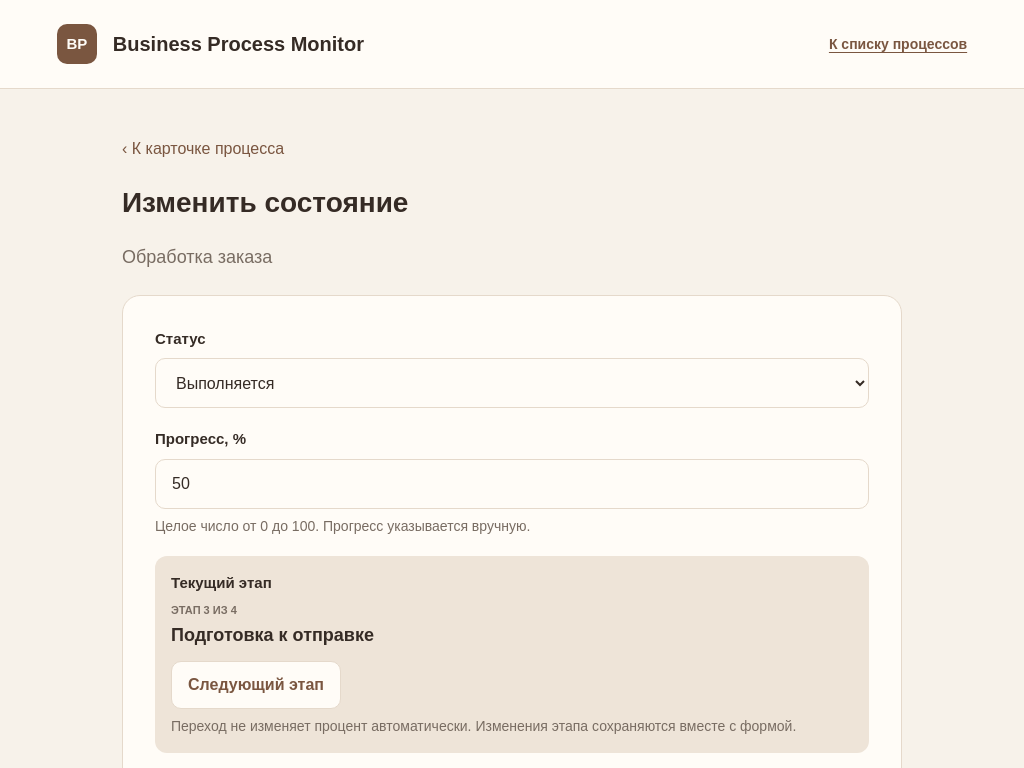
Scenario: R1 / FE-016: валидация перед сохранением › V10: допустимая граница order / in_progress / 1 сохраняется
Select "Выполняется" in the dropdown labelled "Статус" at (512, 383), box [155,358,869,408]
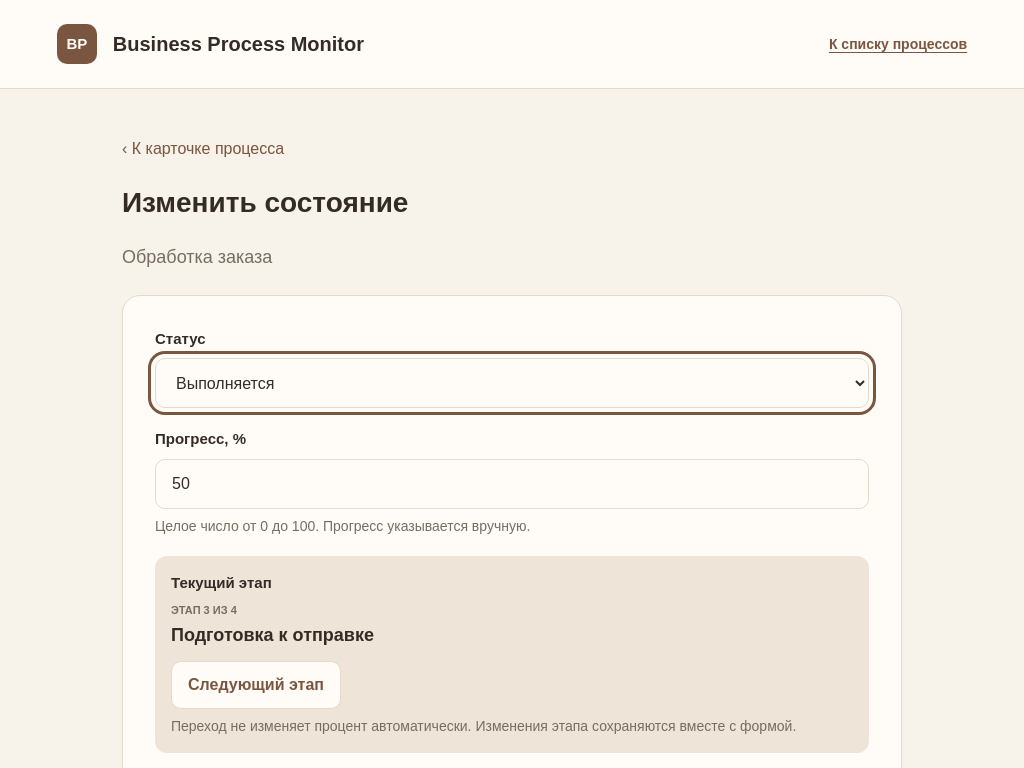
Replace the text in the field labelled "Прогресс, %" with "1" at (512, 484), box [155,459,869,509]
(page scrolled)
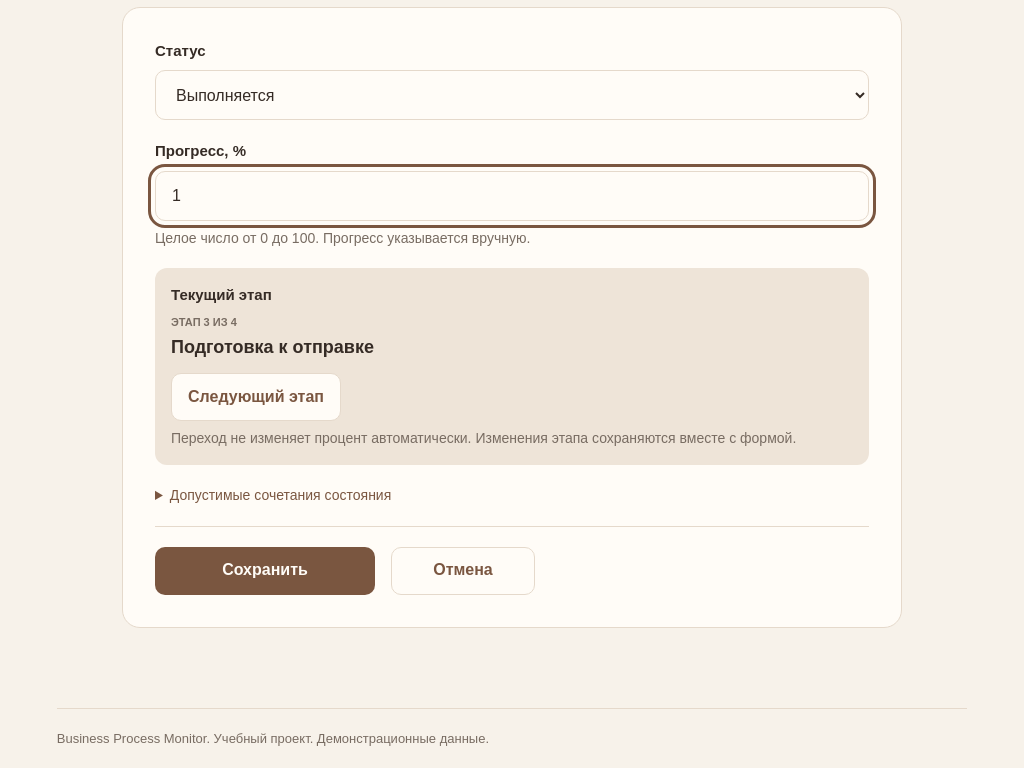
Click the button "Сохранить".
click(265, 571)  # box [155,547,375,595]
(page scrolled)
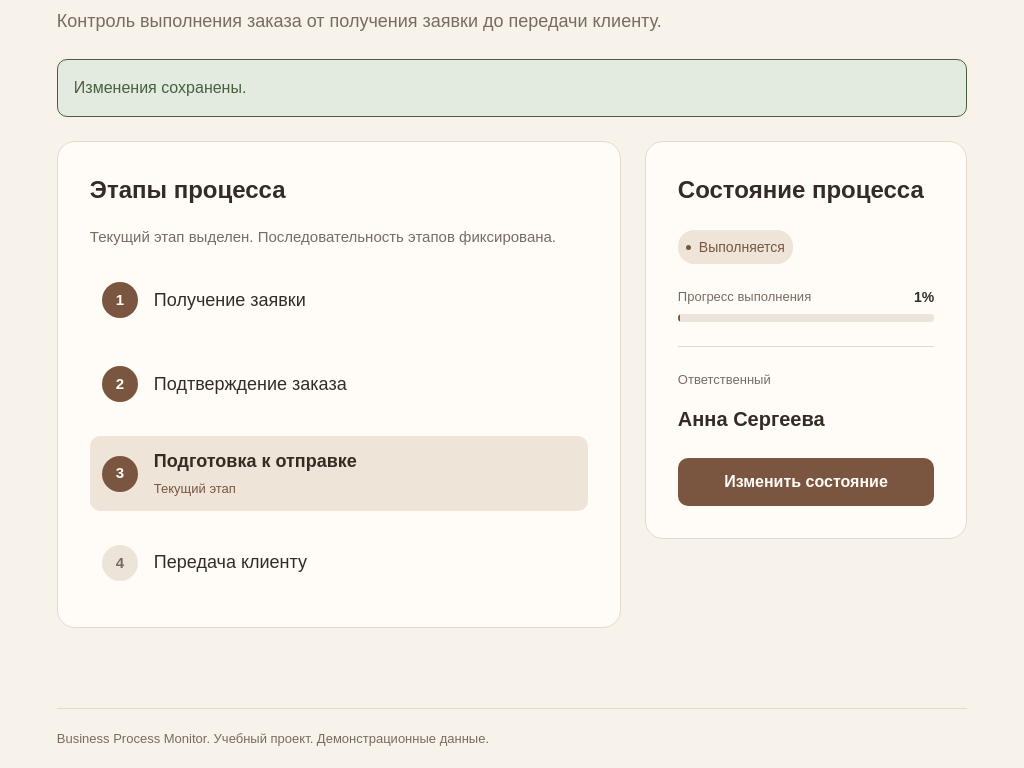
Expected: the message shows "Изменения сохранены", [74,79,246,96]
Expected: the text "Выполняется" is shown, [678,230,793,264]
